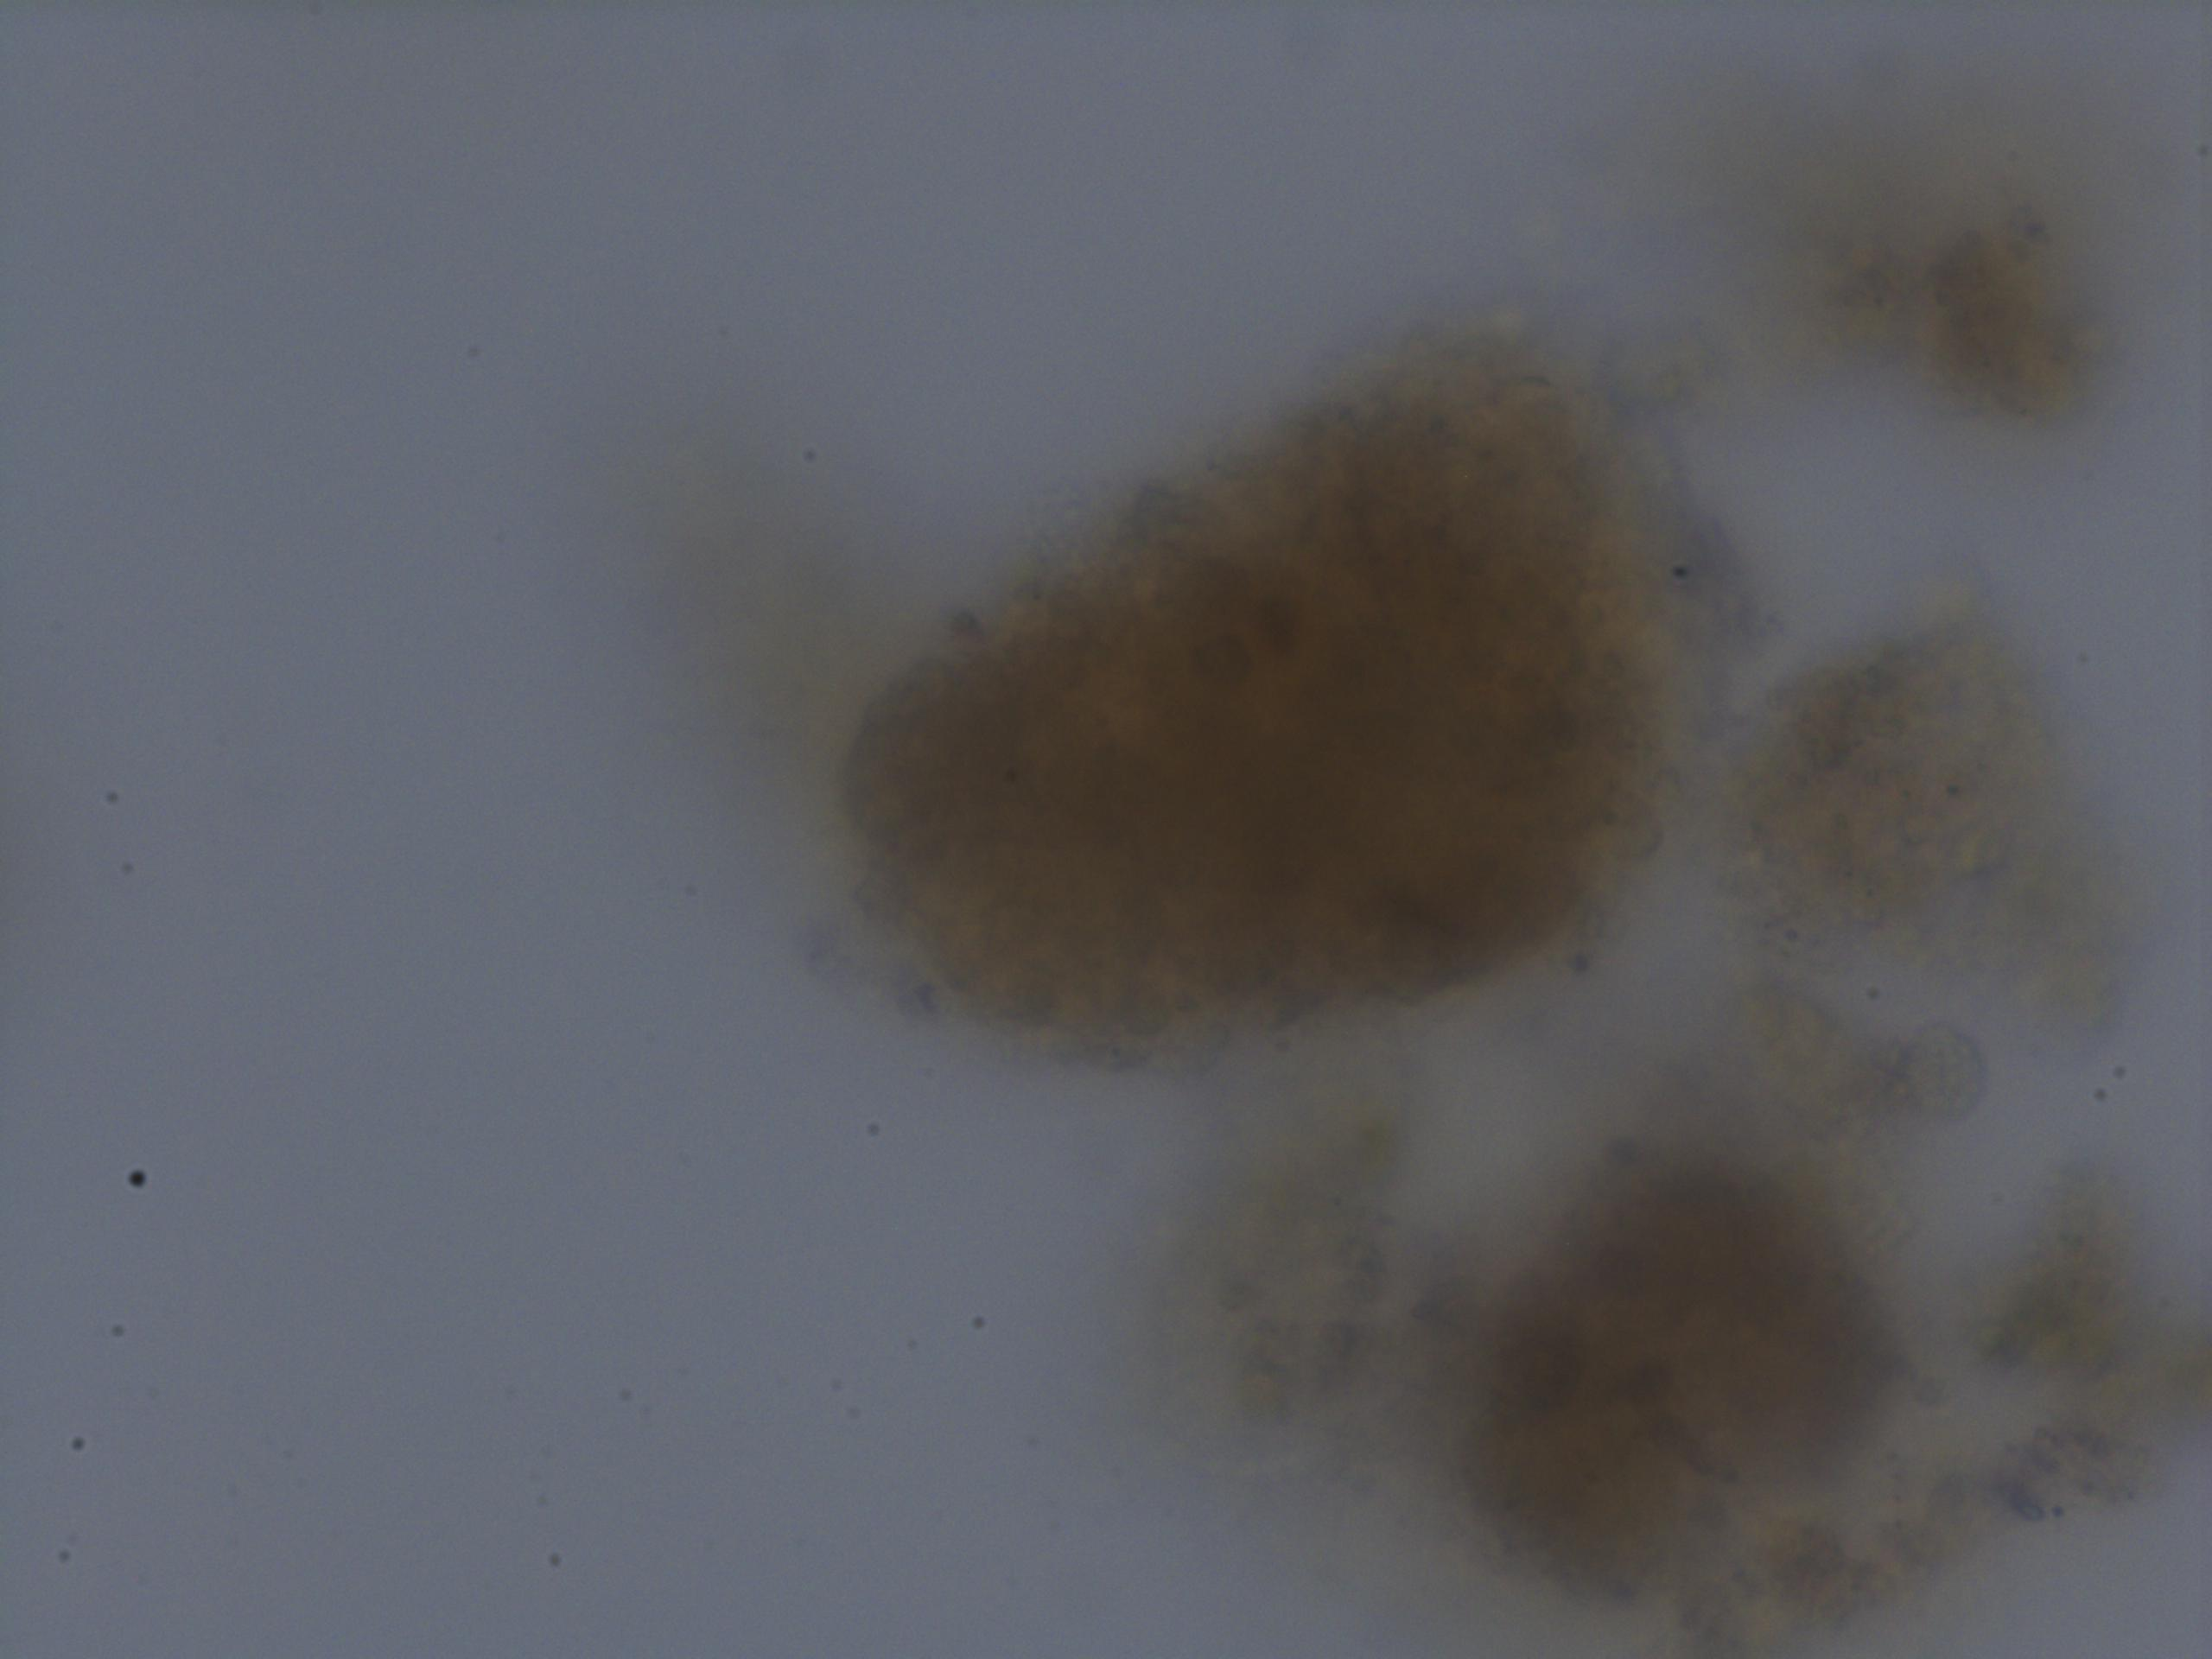spherical_floc: (831, 298, 1691, 1077)
